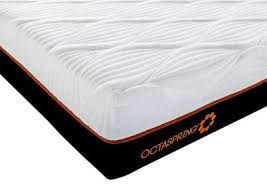bed-matress: (1, 1, 266, 180)
